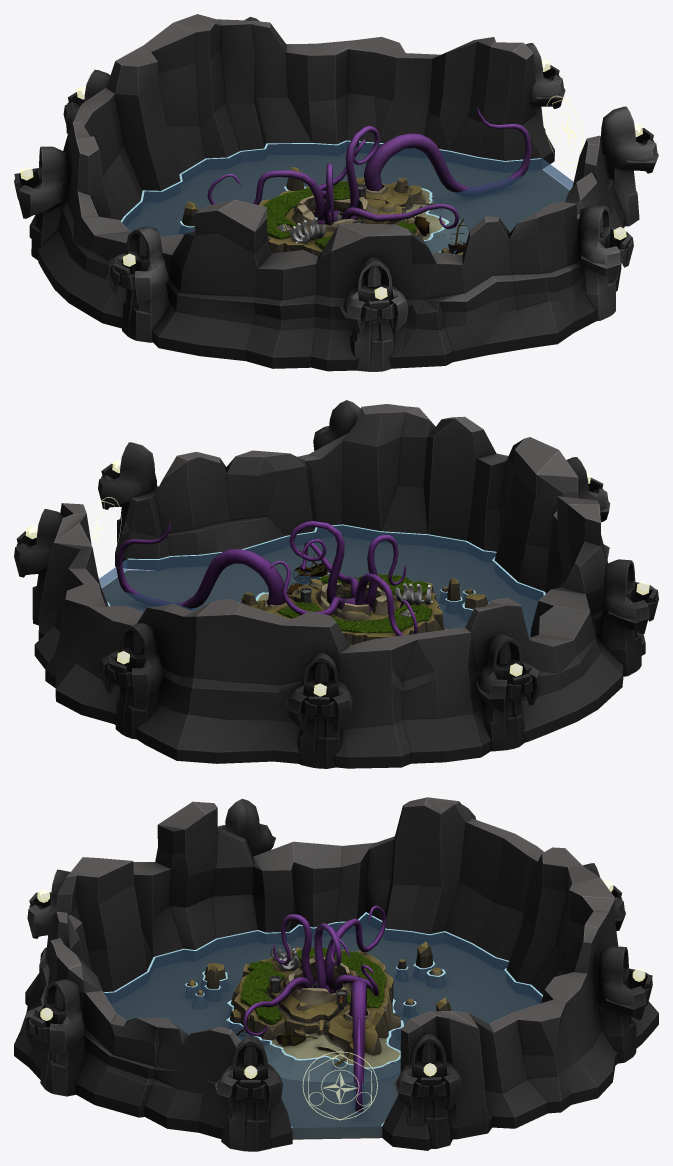
Rendered from fantasy_island_atoll_of_the_beast.glb.
3 renders of one model, top to bottom at view 1: azimuth 30°, elevation 25°; view 2: azimuth 150°, elevation 25°; view 3: azimuth 270°, elevation 25°, orthographic.
Parts seen in each view (by area): view 1: Box021_OuterRing_0, Box012, Object009_Water_0, Seabed_UnderOcean_0, Cylinder016, Plane001, Plane002, Star001, Object009_CoastFoam_0, Box020_Misc_0; view 2: Box021_OuterRing_0, Box012, Object009_Water_0, Seabed_UnderOcean_0, Cylinder016, Plane001, Plane002, Star001, Object009_CoastFoam_0, Box022, Box020_Misc_0; view 3: Box021_OuterRing_0, Object009_Water_0, Box012, Seabed_UnderOcean_0, Plane001, Cylinder016, Plane002, Star001, Object009_CoastFoam_0.
Boxes of the visible parts, x1,y1,x2,y2 form: Box021_OuterRing_0: (29,14,624,371); Box012: (14,17,658,371); Object009_Water_0: (122,141,573,254); Seabed_UnderOcean_0: (125,152,569,237); Cylinder016: (207,108,531,228); Plane001: (179,167,469,256); Plane002: (262,181,416,249); Star001: (20,59,642,299); Object009_CoastFoam_0: (121,140,541,253); Box020_Misc_0: (289,202,441,243); Box021_OuterRing_0: (34,404,645,768); Box012: (14,400,658,768); Object009_Water_0: (99,525,543,637); Seabed_UnderOcean_0: (102,536,538,637); Cylinder016: (116,521,417,635); Plane001: (238,570,488,645); Plane002: (277,573,431,633); Star001: (25,460,649,696); Object009_CoastFoam_0: (107,524,545,629); Box022: (286,550,327,594); Box020_Misc_0: (395,583,433,604); Box021_OuterRing_0: (14,797,658,1150); Object009_Water_0: (104,914,542,1138); Box012: (23,798,652,1151); Seabed_UnderOcean_0: (110,924,539,1139); Plane001: (185,941,451,1082); Cylinder016: (242,905,386,1113); Plane002: (240,948,386,1024); Star001: (37,880,645,1120); Object009_CoastFoam_0: (103,912,542,1127).
Bounding box in the file's own units: 1852 × 433 × 1899.
13 materials, 10 textured.
